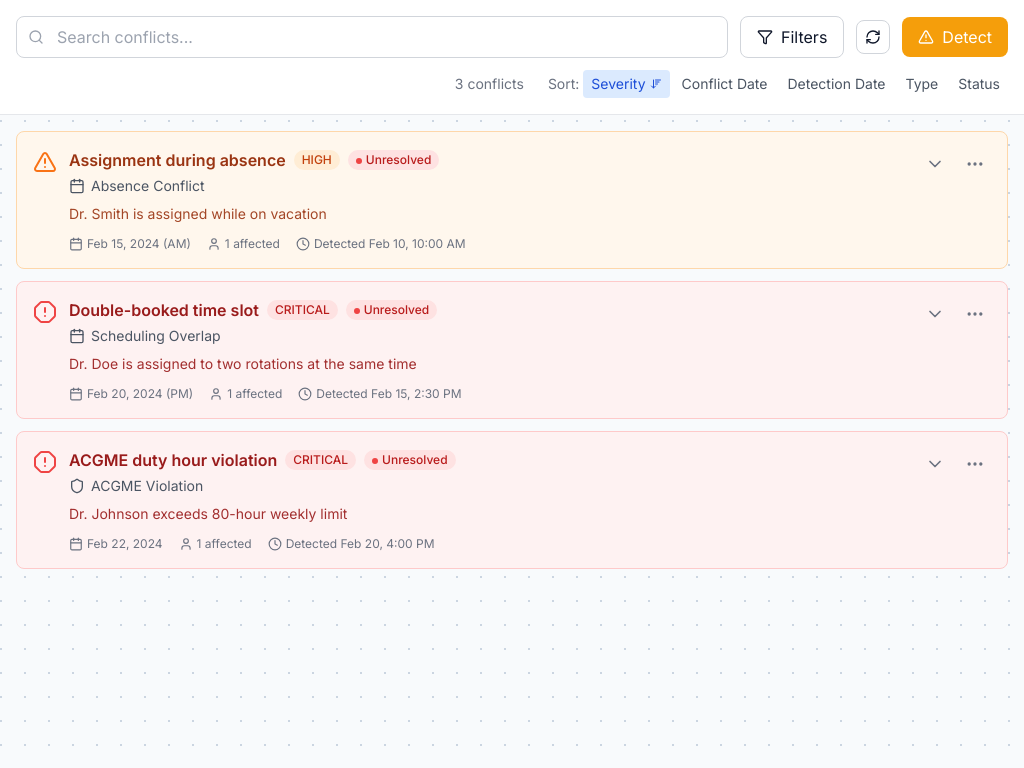
Test: ConflictList › Filter Functionality › should toggle filter panel when filter button clicked
This screenshot has width=1024, height=768.
Click the button "Filters" at (792, 37), box [740, 16, 844, 58]
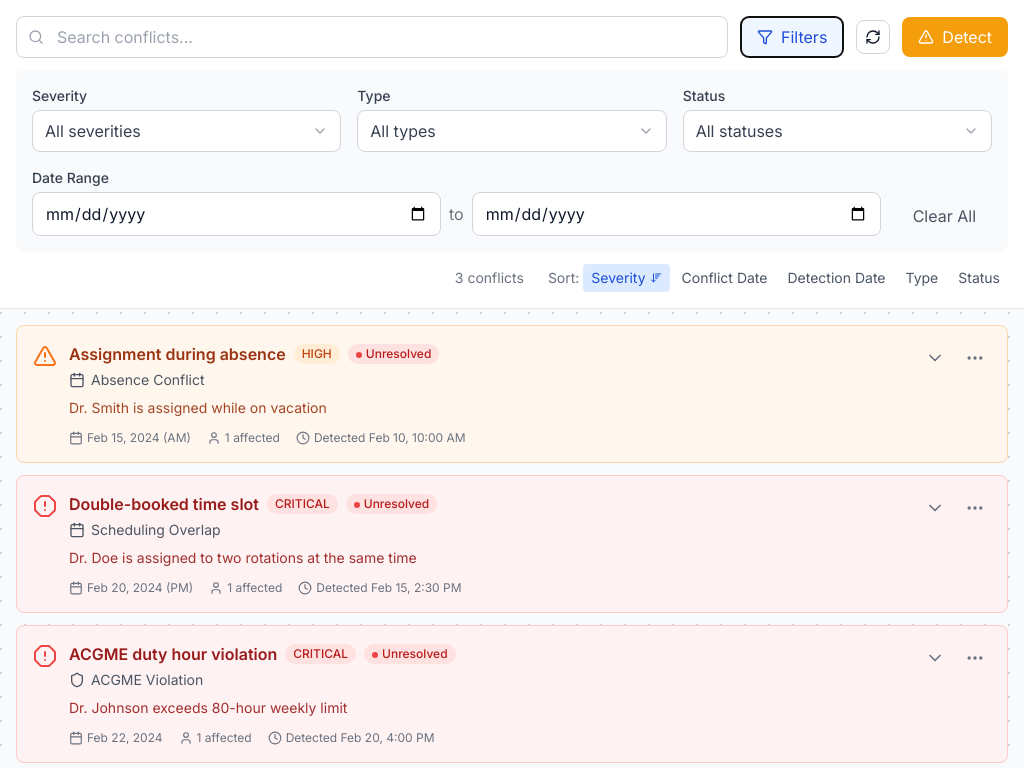
Check: the text "All severities" is shown, box [45, 119, 141, 143]
Check: the text "All types" is shown, box [370, 119, 436, 143]
Check: the text "All statuses" is shown, box [696, 119, 783, 143]
